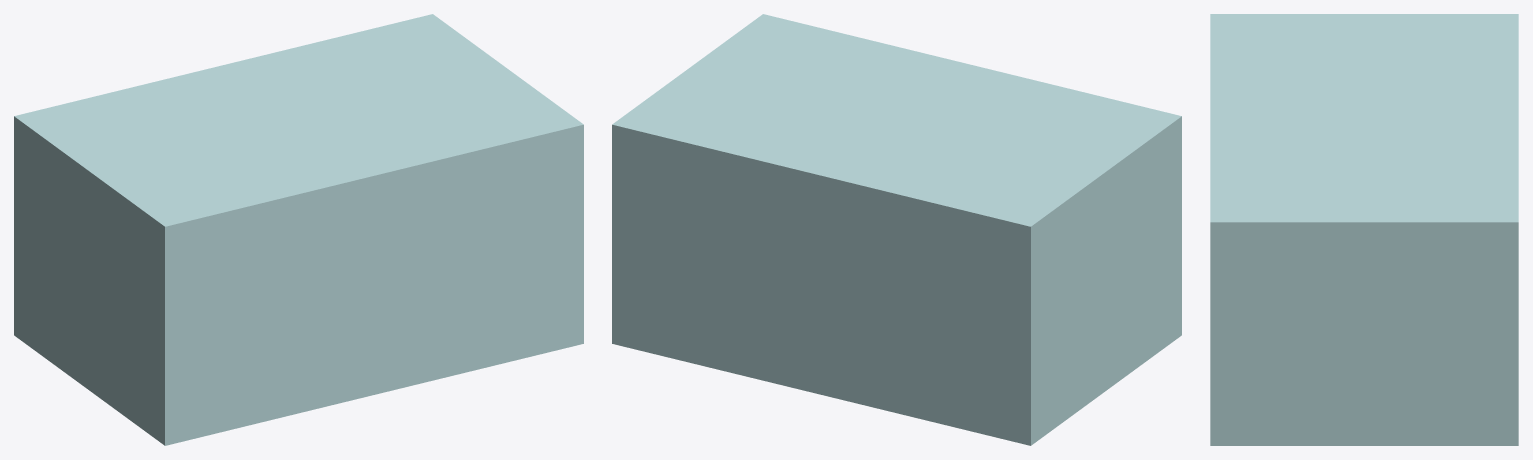
File: sm_product_turtle_tank.glb
3 renders of one model, left to right at view 1: azimuth 30°, elevation 25°; view 2: azimuth 150°, elevation 25°; view 3: azimuth 270°, elevation 25°, orthographic.
Parts seen in each view (by area): view 1: turtle_tank_0; view 2: turtle_tank_0; view 3: turtle_tank_0.
Boxes of the visible parts, bbox=[...] form: turtle_tank_0: bbox=[14, 14, 583, 445]; turtle_tank_0: bbox=[612, 14, 1181, 445]; turtle_tank_0: bbox=[1210, 14, 1518, 445].
Size of what is drawn, in the model's own units: 0.4 by 0.2 by 0.25.
